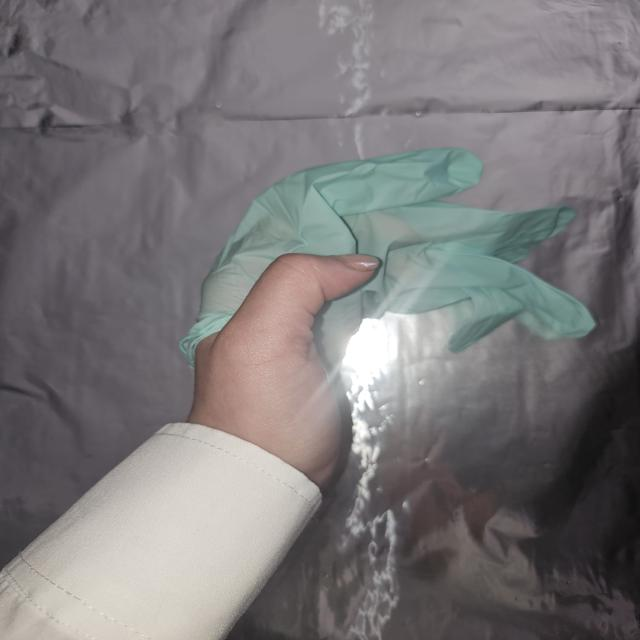glove_partial: (178, 144, 602, 471)
